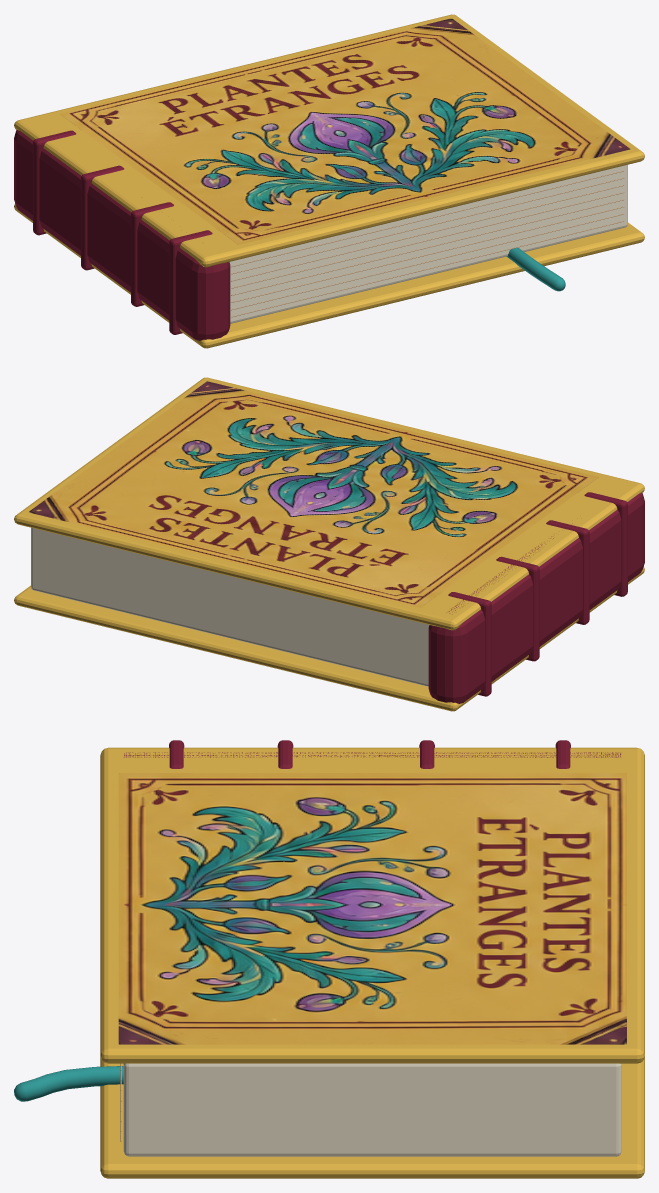
File: botanical_book_ochre.glb
The picture shows the model from 3 angles, top to bottom: view 1: azimuth 30°, elevation 25°; view 2: azimuth 150°, elevation 25°; view 3: azimuth 270°, elevation 25°; orthographic projection. The views are drawn at different scales.
Visible parts, largest first — view 1: Flat_book_cover, Ivory_pageblock, Hardbound_cover.001, Rounded_bound_spine, Hardbound_cover, Raised_binding_rib.003, Ribbon_bookmark, Raised_binding_rib, Raised_binding_rib.001, Raised_binding_rib.002, Fore_edge_page_line.006, Fore_edge_page_line.002 (+6 smaller); view 2: Flat_book_cover, Ivory_pageblock, Hardbound_cover.001, Rounded_bound_spine, Hardbound_cover, Raised_binding_rib.001, Raised_binding_rib.002, Raised_binding_rib, Raised_binding_rib.003; view 3: Flat_book_cover, Ivory_pageblock, Hardbound_cover.001, Hardbound_cover, Ribbon_bookmark, Rounded_bound_spine.
Boxes of the visible parts, <box> form: Flat_book_cover: <box>60,18,630,244</box>; Ivory_pageblock: <box>229,164,627,323</box>; Hardbound_cover.001: <box>14,14,644,267</box>; Rounded_bound_spine: <box>14,130,230,340</box>; Hardbound_cover: <box>14,203,644,348</box>; Raised_binding_rib.003: <box>169,230,212,334</box>; Ribbon_bookmark: <box>506,247,565,291</box>; Raised_binding_rib: <box>33,130,76,235</box>; Raised_binding_rib.001: <box>81,165,124,270</box>; Raised_binding_rib.002: <box>131,202,173,306</box>; Fore_edge_page_line.006: <box>231,178,624,274</box>; Fore_edge_page_line.002: <box>231,206,623,302</box>; Flat_book_cover: <box>28,381,598,607</box>; Ivory_pageblock: <box>31,527,429,686</box>; Hardbound_cover.001: <box>14,377,644,630</box>; Rounded_bound_spine: <box>428,493,644,703</box>; Hardbound_cover: <box>14,566,644,711</box>; Raised_binding_rib.001: <box>496,556,539,661</box>; Raised_binding_rib.002: <box>546,520,589,624</box>; Raised_binding_rib: <box>448,592,491,696</box>; Raised_binding_rib.003: <box>584,492,627,596</box>; Flat_book_cover: <box>118,773,626,1044</box>; Ivory_pageblock: <box>123,1063,621,1156</box>; Hardbound_cover.001: <box>100,747,644,1063</box>; Hardbound_cover: <box>100,1056,644,1178</box>; Ribbon_bookmark: <box>14,1066,123,1101</box>; Rounded_bound_spine: <box>124,752,620,757</box>.
Bounding box in the file's own units: 0.284 × 0.057 × 0.2433.
Materials: 7 (1 with a texture image).
